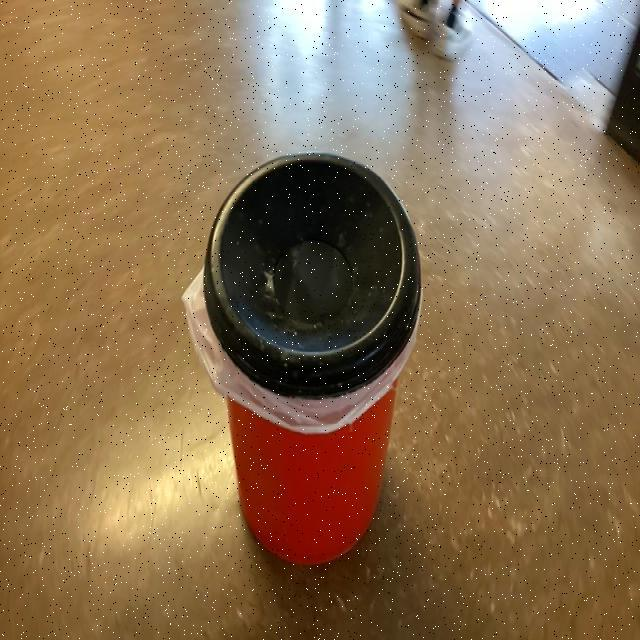garbage-container: (176, 141, 427, 591)
